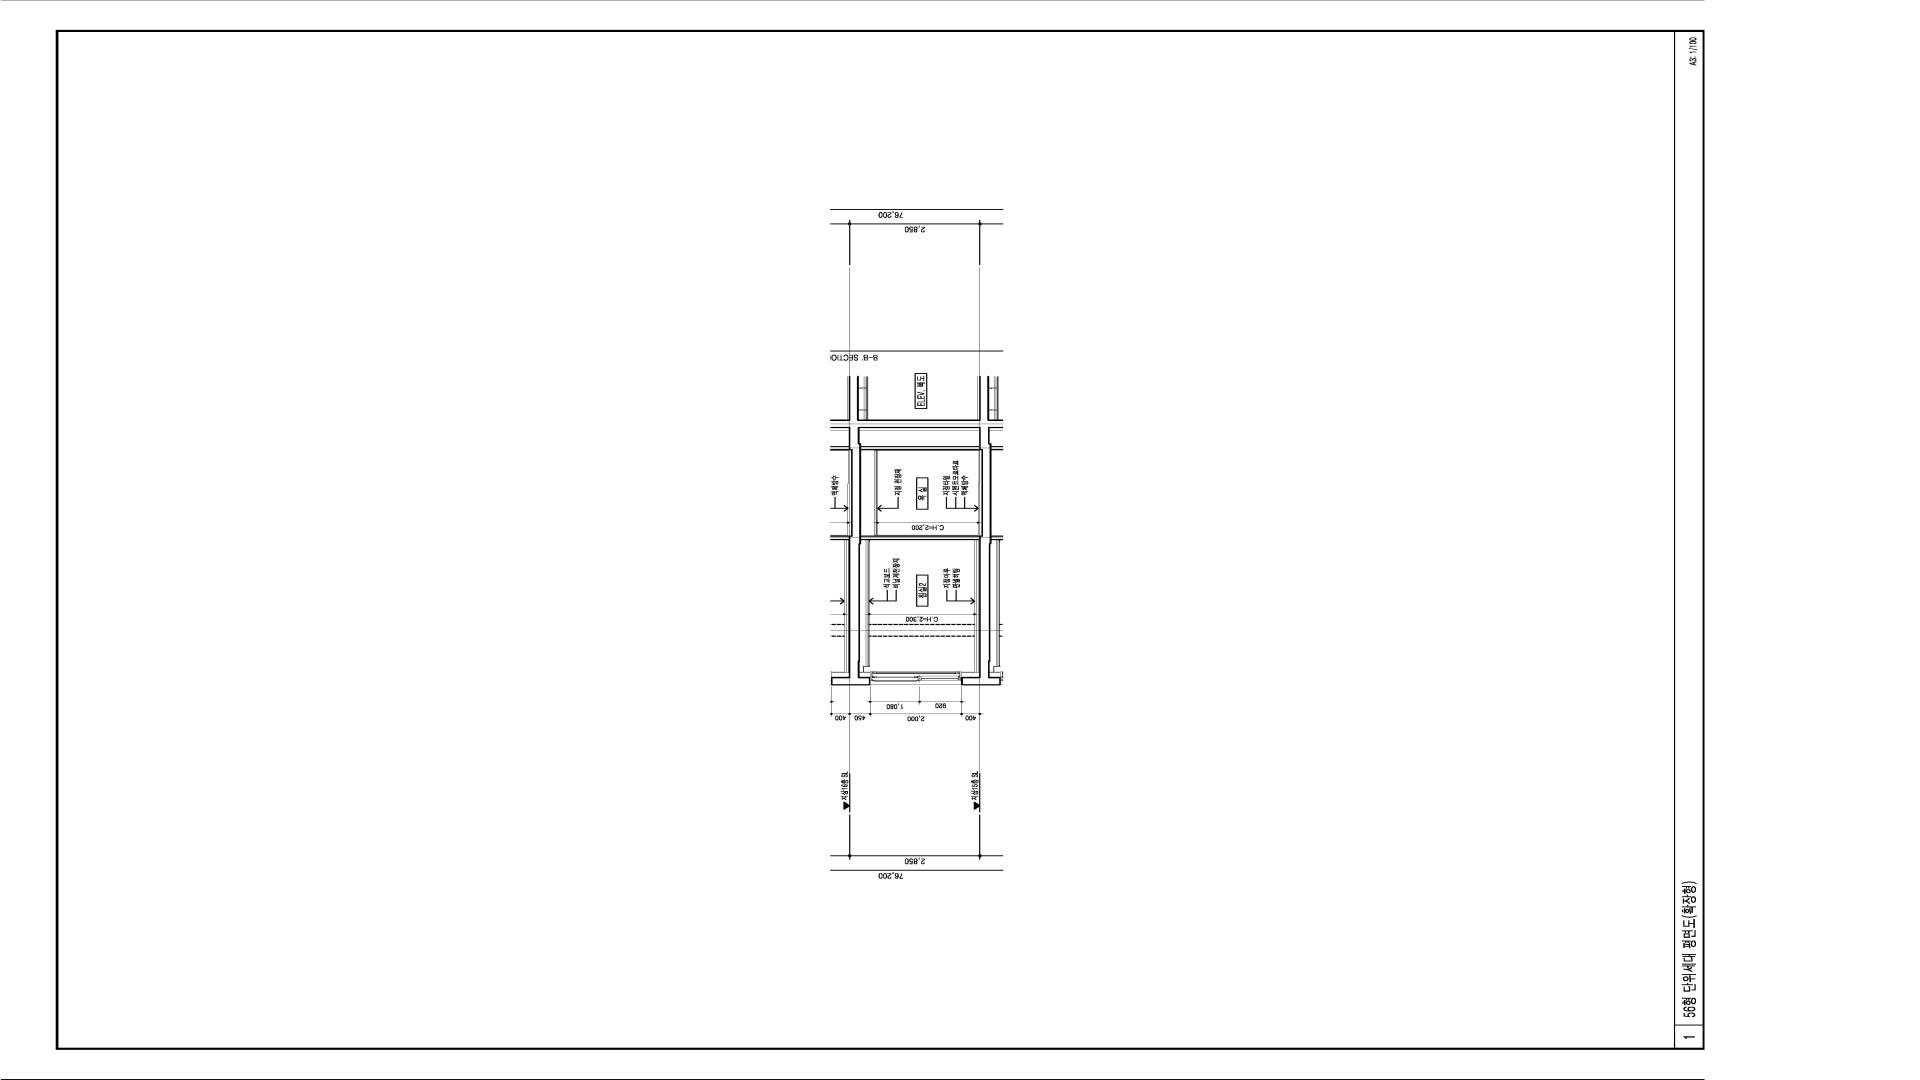background: (0, 0, 1920, 1080)
wall: (849, 376, 992, 686), (861, 536, 979, 540), (862, 446, 979, 450)
window: (871, 672, 961, 685)
